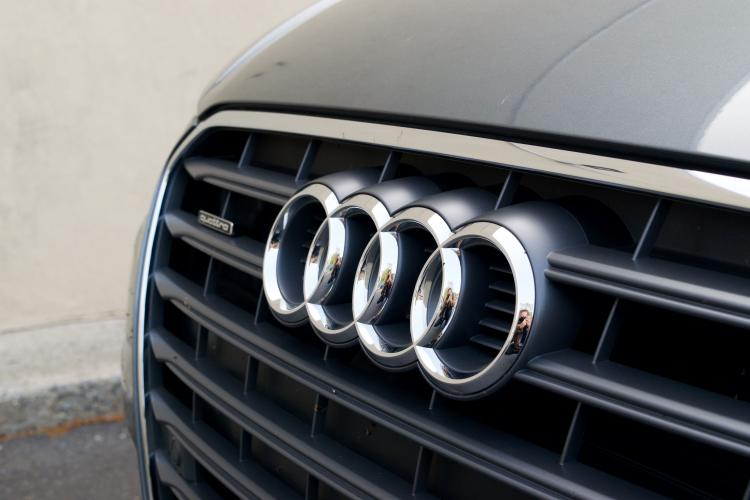audi: (253, 166, 556, 412)
